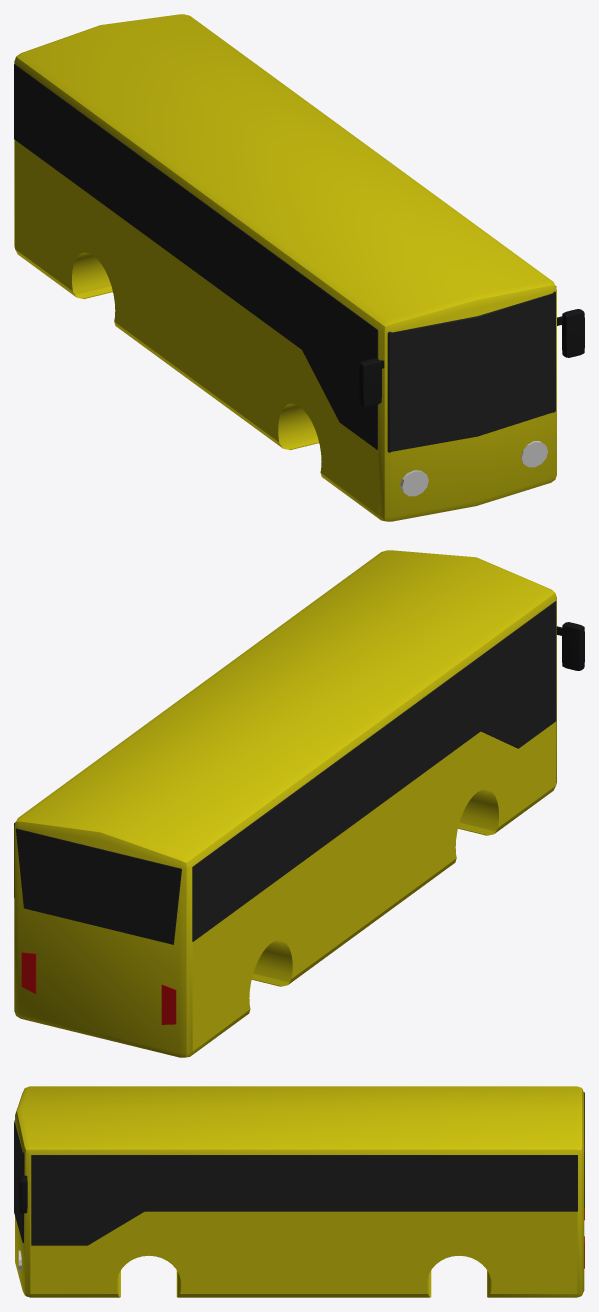
File: Buss.fbx
The picture shows the model from 3 angles, top to bottom: view 1: azimuth 30°, elevation 25°; view 2: azimuth 150°, elevation 25°; view 3: azimuth 270°, elevation 25°; orthographic projection. The views are drawn at different scales.
Visible parts, largest first — view 1: Buss_Model; view 2: Buss_Model; view 3: Buss_Model.
Boxes of the visible parts, x1,y1,x2,y2 form: Buss_Model: [14, 14, 584, 521]; Buss_Model: [14, 550, 584, 1057]; Buss_Model: [14, 1086, 584, 1297].
Bounding box in the file's own units: 276 × 815 × 250.
